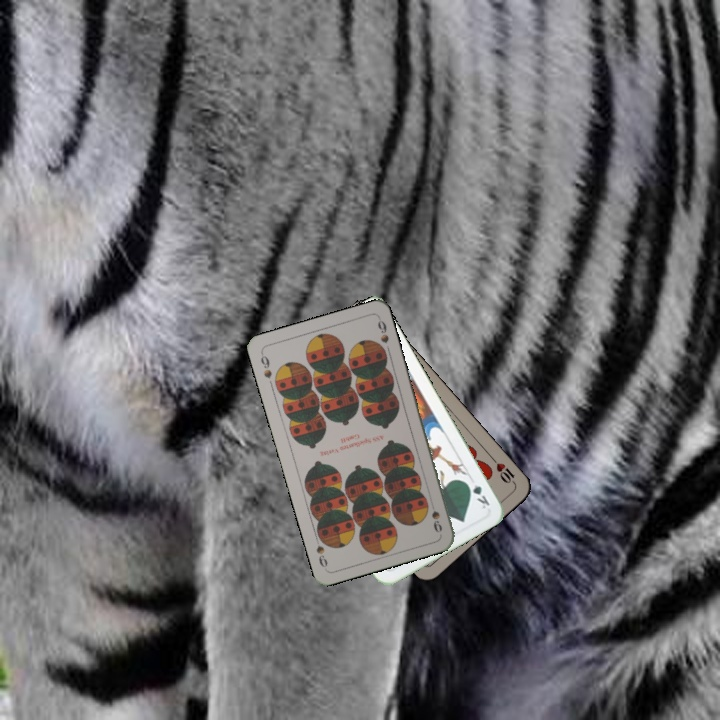GK: (462, 477, 492, 512)
H10: (487, 453, 518, 487)
S9: (427, 496, 445, 535), (257, 349, 274, 381)
